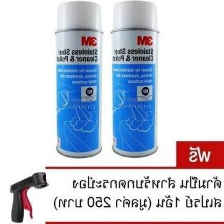aerosol_cans: (50, 0, 107, 160), (108, 0, 159, 160)
